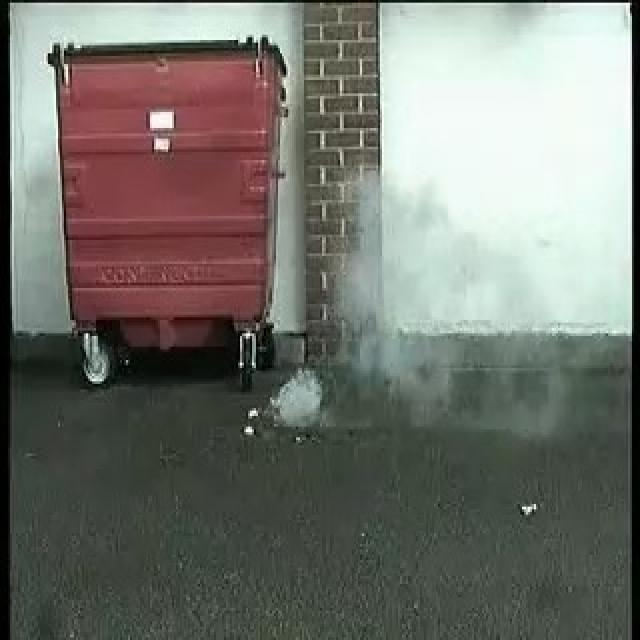smoke: (275, 202, 421, 430)
